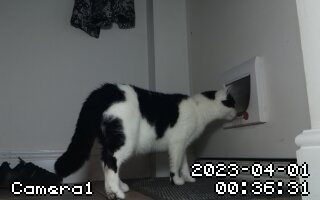bad: (51, 82, 240, 196)
